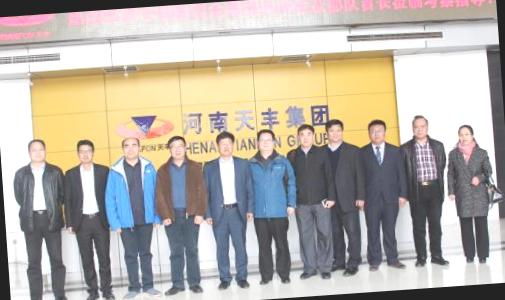no_helmet: (214, 127, 241, 165), (252, 125, 280, 161), (163, 132, 191, 167), (116, 134, 144, 168), (70, 137, 98, 168), (361, 118, 389, 148), (24, 136, 50, 167), (321, 118, 346, 148), (292, 122, 314, 154), (407, 113, 432, 137), (454, 122, 477, 148)
